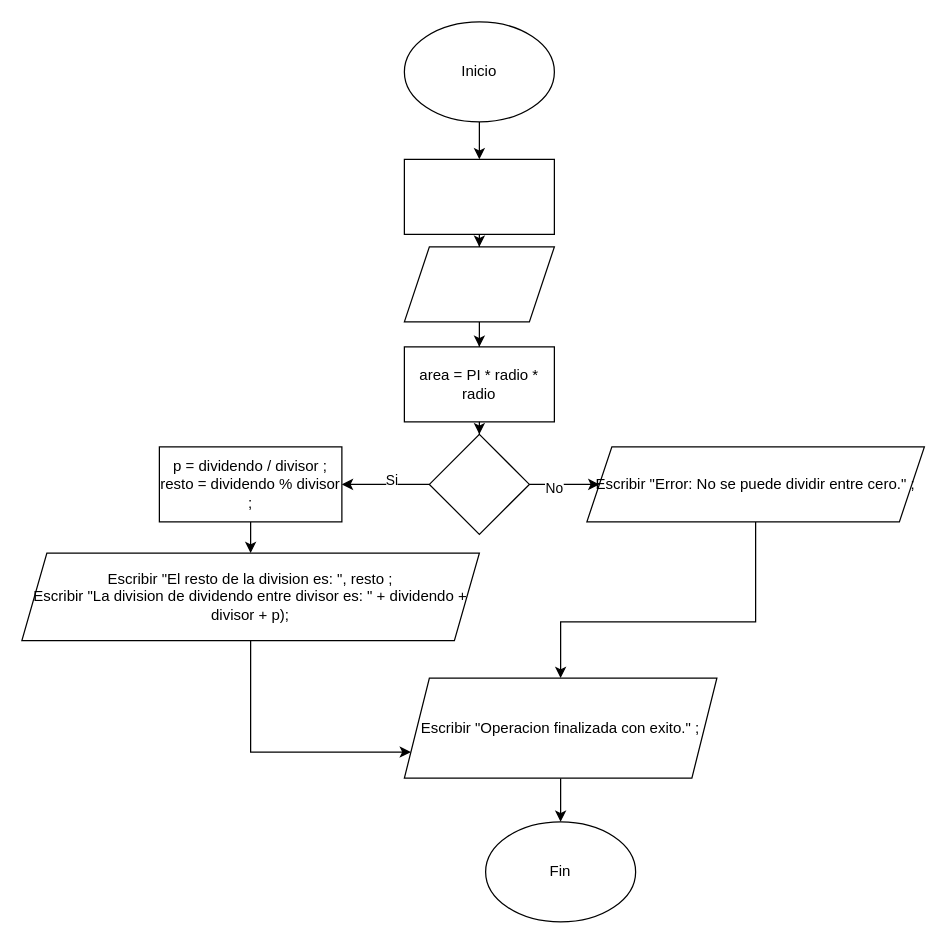
Image size: 946x944. Some labels were removed from this diagram. The shapes that lost their labels are listed below. From the top down, each one's centre as x and y in pixels, then its label:
At [478,196]: "PI = 3.14159 ;".
At [478,284]: "Leer radio ; Leer divisor; Leer dividendo ;".
At [478,483]: "¿divisor != 0?".
